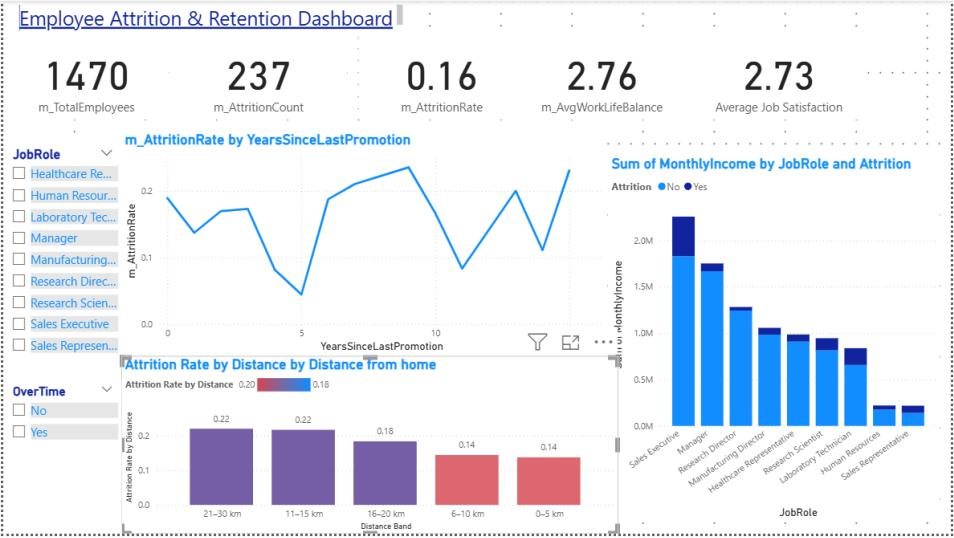

The dashboard page shown, as its layout file describes it:
{"tool":"powerbi","page":{"name":"Overview","canvas":[1280,720],"ordinal":0},"visuals":[{"type":"textbox","box":[16,0,528,48],"z":0},{"type":"card","fields":{"Values":["cleaned_employee_attrition.m_TotalEmployees"]},"box":[0,48,224,112],"z":7},{"type":"card","fields":{"Values":["cleaned_employee_attrition.m_AttritionCount"]},"box":[224,48,240,112],"z":8},{"type":"card","fields":{"Values":["cleaned_employee_attrition.m_AttritionRate"]},"box":[480,48,224,112],"z":9},{"type":"card","fields":{"Values":["cleaned_employee_attrition.m_AvgWorkLifeBalance"]},"box":[688,48,240,112],"z":10},{"type":"card","fields":{"Values":["cleaned_employee_attrition.Average Job Satisfaction"]},"box":[928,48,240,112],"z":11},{"type":"lineChart","fields":{"Category":["cleaned_employee_attrition.YearsSinceLastPromotion"],"Y":["cleaned_employee_attrition.m_AttritionRate"]},"box":[160,176,656,304],"z":13},{"type":"columnChart","fields":{"Category":["cleaned_employee_attrition.JobRole"],"Y":["Sum(cleaned_employee_attrition.MonthlyIncome)"],"Series":["cleaned_employee_attrition.Attrition"]},"box":[816,208,448,496],"z":14},{"type":"slicer","fields":{"Values":["cleaned_employee_attrition.JobRole"]},"box":[0,192,160,320],"z":15},{"type":"columnChart","title":"Attrition Rate by Distance by Distance from home","fields":{"Y":["cleaned_employee_attrition.Attrition Rate by Distance"],"Category":["cleaned_employee_attrition.Distance Band"]},"box":[160,480,672,240],"z":16},{"type":"slicer","fields":{"Values":["cleaned_employee_attrition.OverTime"]},"box":[0,512,160,208],"z":17}]}

Visuals, with their boxes in screenshot pixels (x1, y1, x2, y2), scaled from the page's 1280x720 canvas onto the 954x538 screenshot:
textbox: {"x1": 12, "y1": 0, "x2": 405, "y2": 36}
card - cleaned_employee_attrition.m_TotalEmployees: {"x1": 0, "y1": 36, "x2": 167, "y2": 120}
card - cleaned_employee_attrition.m_AttritionCount: {"x1": 167, "y1": 36, "x2": 346, "y2": 120}
card - cleaned_employee_attrition.m_AttritionRate: {"x1": 358, "y1": 36, "x2": 525, "y2": 120}
card - cleaned_employee_attrition.m_AvgWorkLifeBalance: {"x1": 513, "y1": 36, "x2": 692, "y2": 120}
card - cleaned_employee_attrition.Average Job Satisfaction: {"x1": 692, "y1": 36, "x2": 871, "y2": 120}
lineChart - cleaned_employee_attrition.YearsSinceLastPromotion x cleaned_employee_attrition.m_AttritionRate: {"x1": 119, "y1": 132, "x2": 608, "y2": 359}
columnChart - cleaned_employee_attrition.JobRole x Sum(cleaned_employee_attrition.MonthlyIncome): {"x1": 608, "y1": 155, "x2": 942, "y2": 526}
slicer - cleaned_employee_attrition.JobRole: {"x1": 0, "y1": 143, "x2": 119, "y2": 383}
"Attrition Rate by Distance by Distance from home" columnChart: {"x1": 119, "y1": 359, "x2": 620, "y2": 537}
slicer - cleaned_employee_attrition.OverTime: {"x1": 0, "y1": 383, "x2": 119, "y2": 537}
